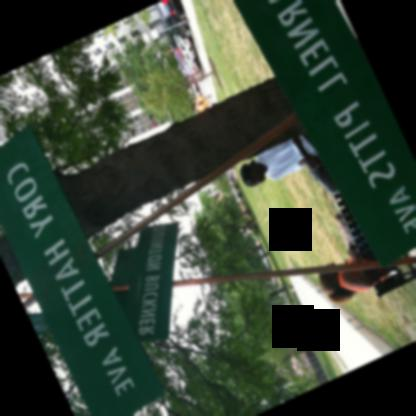backpack: (306, 163, 339, 194)
